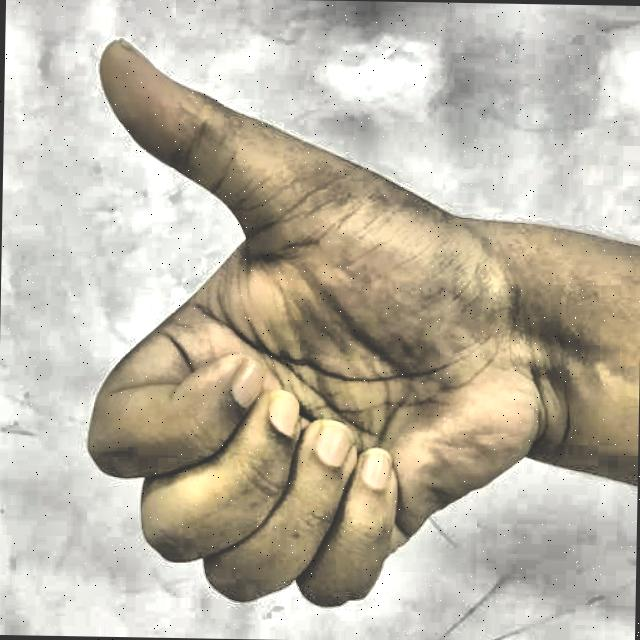Do: (38, 22, 559, 630)
